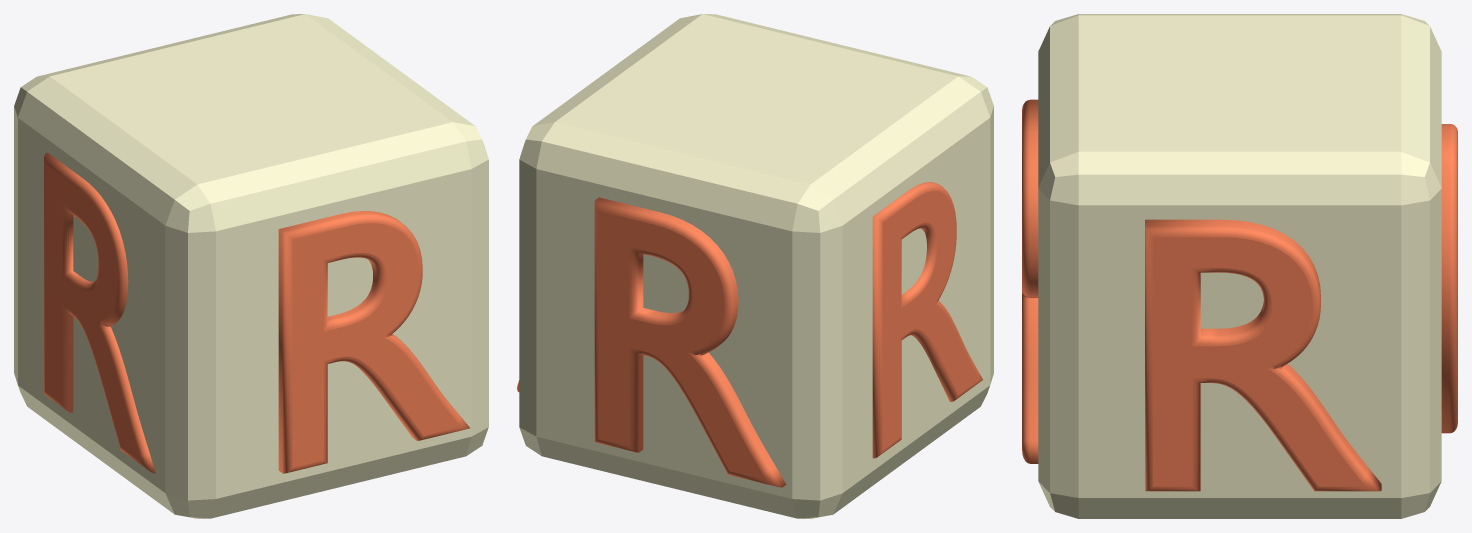
3 renders of one model, left to right at view 1: azimuth 30°, elevation 25°; view 2: azimuth 150°, elevation 25°; view 3: azimuth 270°, elevation 25°, orthographic. The views are drawn at different scales.
Visible parts, largest first — view 1: R; view 2: R; view 3: R.
Part boxes in pixels (bbox=[...]): R: bbox=[14, 14, 488, 518]; R: bbox=[517, 14, 993, 518]; R: bbox=[1022, 14, 1457, 518].
Size of the model in its own units: 216 by 200 by 216.
